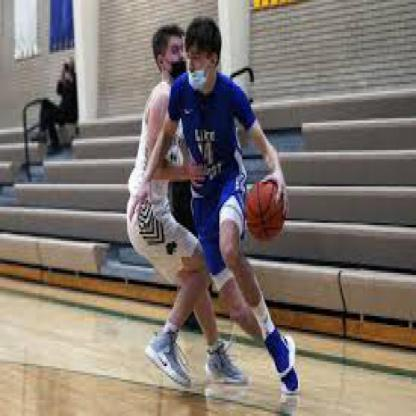basketball: (245, 180, 285, 242)
